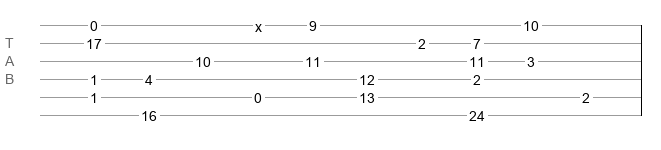0: (90, 18, 98, 28), (254, 90, 262, 100)
1: (90, 90, 98, 100), (90, 72, 98, 82)
10: (195, 54, 211, 64), (523, 18, 539, 28)
11: (305, 54, 321, 64), (469, 54, 485, 64)
12: (359, 72, 375, 82)
13: (359, 90, 375, 100)
16: (141, 108, 157, 118)
17: (86, 36, 102, 46)
2: (418, 36, 426, 46), (473, 72, 481, 82), (582, 90, 590, 100)
24: (469, 108, 485, 118)
3: (527, 54, 535, 64)
4: (145, 72, 153, 82)
7: (473, 36, 481, 46)
9: (309, 18, 317, 28)
x: (255, 19, 262, 27)
